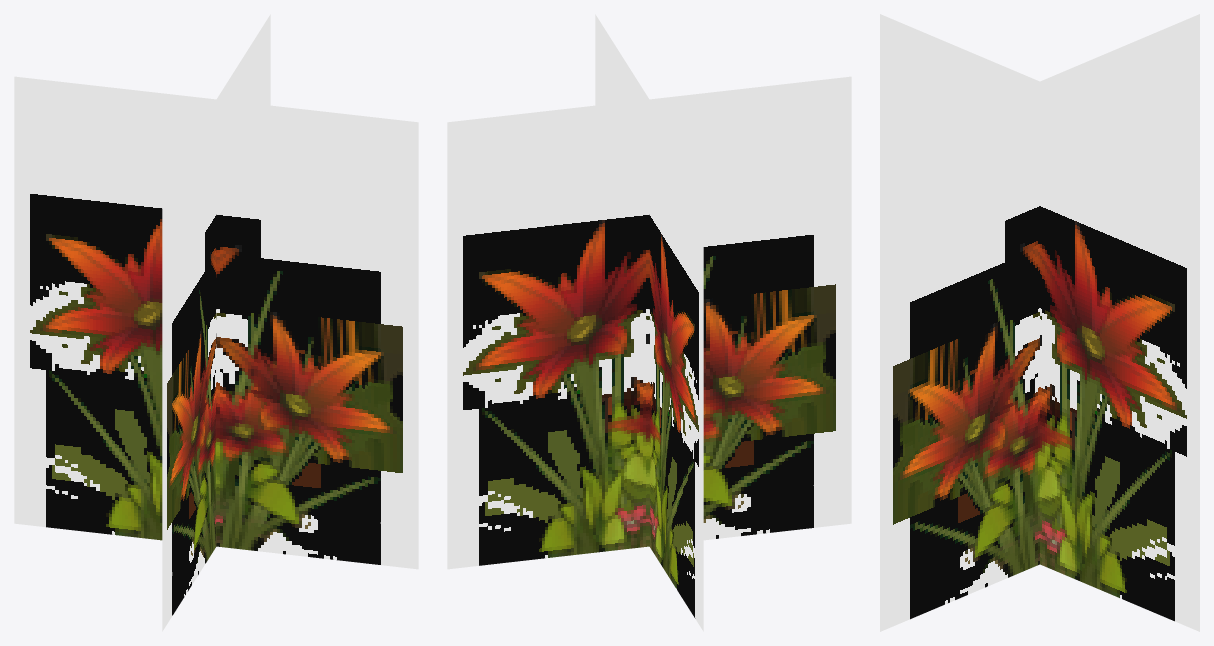
Rendered from herb_bloodflower.glb.
3 renders of one model, left to right at view 1: azimuth 30°, elevation 25°; view 2: azimuth 150°, elevation 25°; view 3: azimuth 270°, elevation 25°, orthographic. The views are drawn at different scales.
Parts seen in each view (by area): view 1: 龙血花; view 2: 龙血花; view 3: 龙血花.
Boxes of the visible parts, box(x1,y1,x2,y2) form: 龙血花: box(14, 14, 418, 631); 龙血花: box(447, 14, 851, 631); 龙血花: box(880, 14, 1199, 631).
Size of the model in its own units: 0.6 by 1 by 0.6.
1 material, 1 textured.
